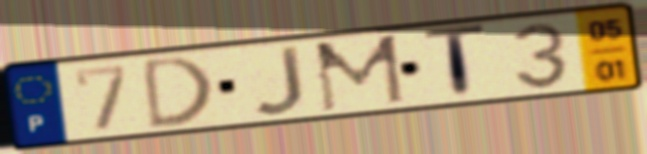3: (504, 20, 572, 92)
7: (70, 61, 132, 134)
D: (139, 52, 216, 133)
J: (248, 42, 308, 118)
M: (310, 31, 408, 116)
T: (419, 21, 489, 103)
